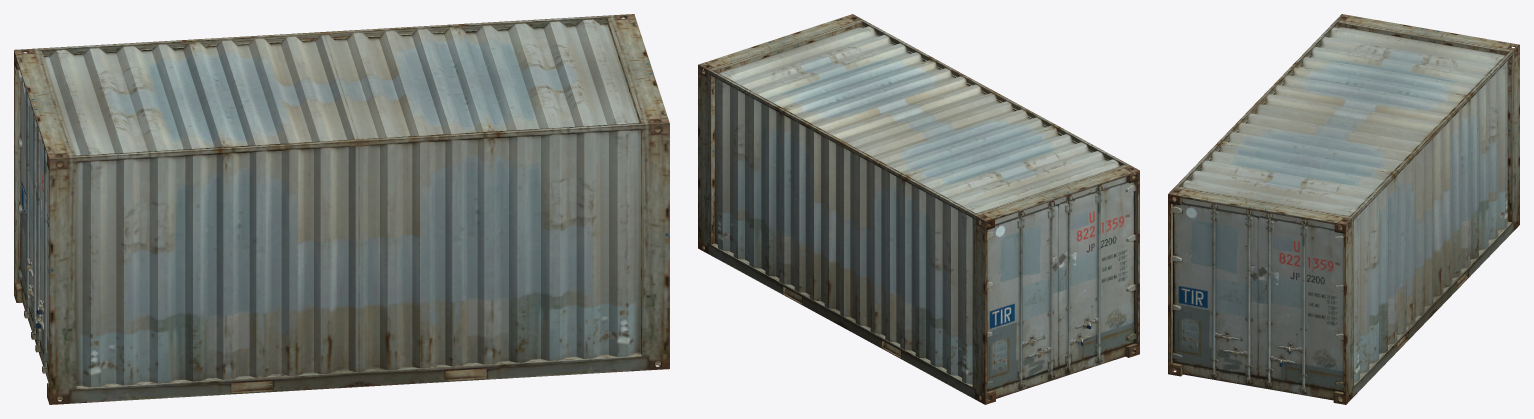
Rendered from Container_Prefab (3).fbx.
3 views of the same model, side by side, from view 1: azimuth 30°, elevation 25°; view 2: azimuth 150°, elevation 25°; view 3: azimuth 270°, elevation 25° (orthographic). The views are drawn at different scales.
Parts seen in each view (by area): view 1: Container; view 2: Container; view 3: Container.
Part boxes in pixels (x1,y1,x2,y2): Container: (14,14,669,404); Container: (698,14,1139,404); Container: (1168,14,1519,404).
Bounding box in the file's own units: 1167 × 466 × 824.
1 material, 1 textured.
